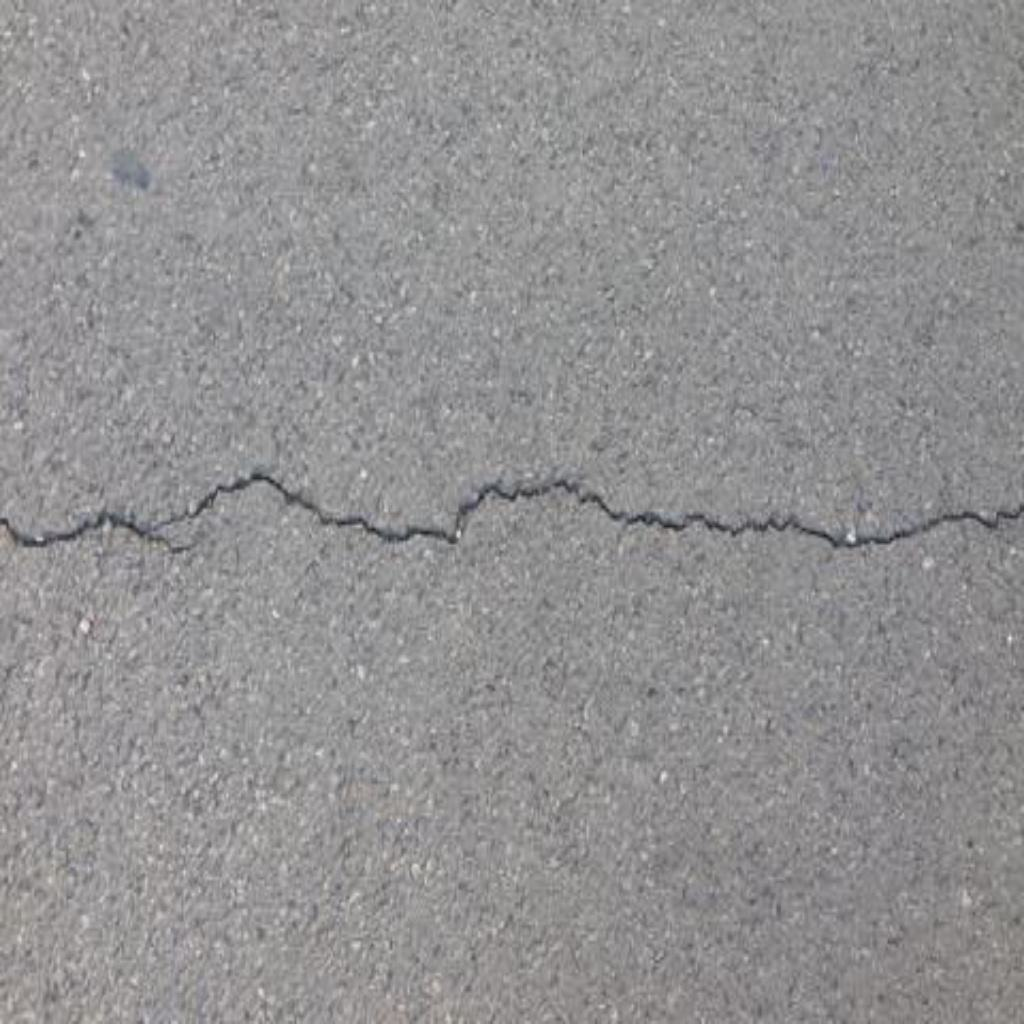Crack: (1, 473, 1024, 551)
